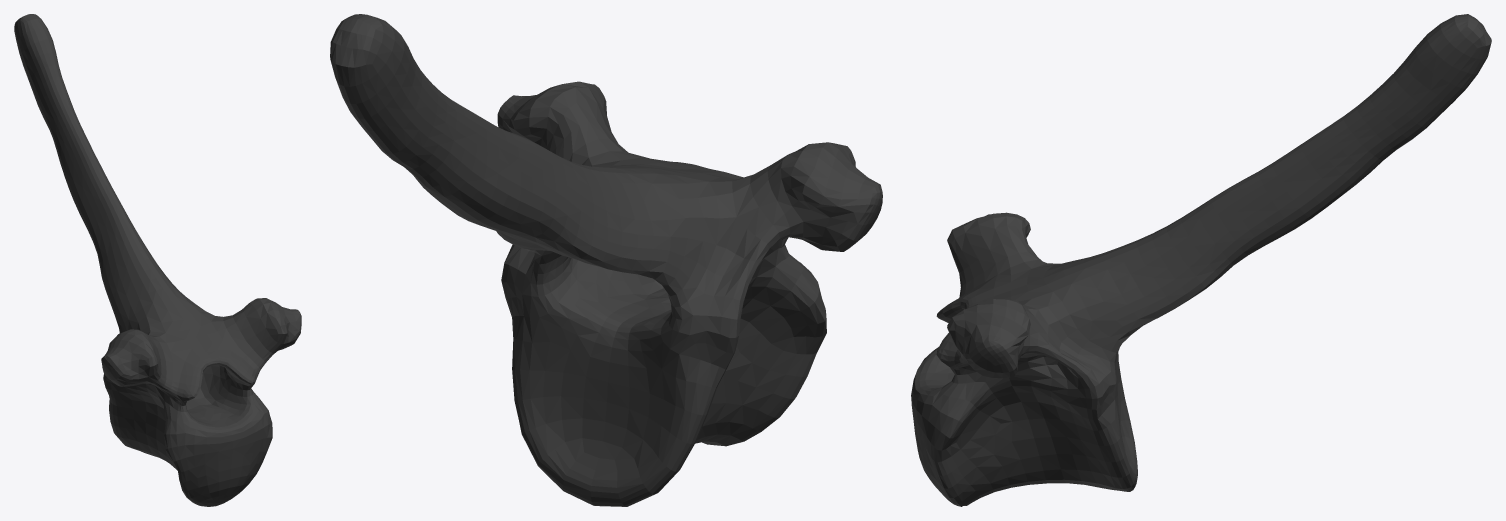
3 renders of one model, left to right at view 1: azimuth 30°, elevation 25°; view 2: azimuth 150°, elevation 25°; view 3: azimuth 270°, elevation 25°, orthographic. The views are drawn at different scales.
Visible parts, largest first — view 1: b_T10_LO; view 2: b_T10_LO; view 3: b_T10_LO.
Boxes of the visible parts, left/top/right/bottom form: b_T10_LO: left=14, top=14, right=301, bottom=506; b_T10_LO: left=330, top=14, right=882, bottom=506; b_T10_LO: left=911, top=14, right=1491, bottom=506.
Bounding box in the file's own units: 0.000898 × 0.00157 × 0.0017.
Materials: 1 (1 with a texture image).
